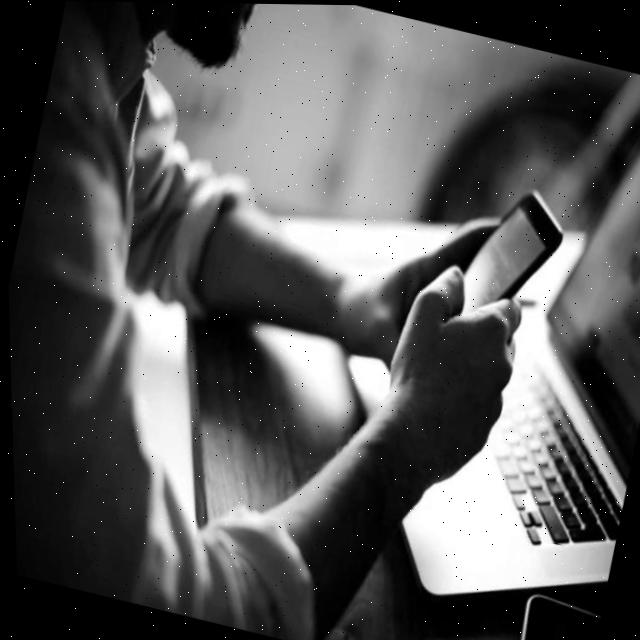phone: (447, 173, 573, 336)
